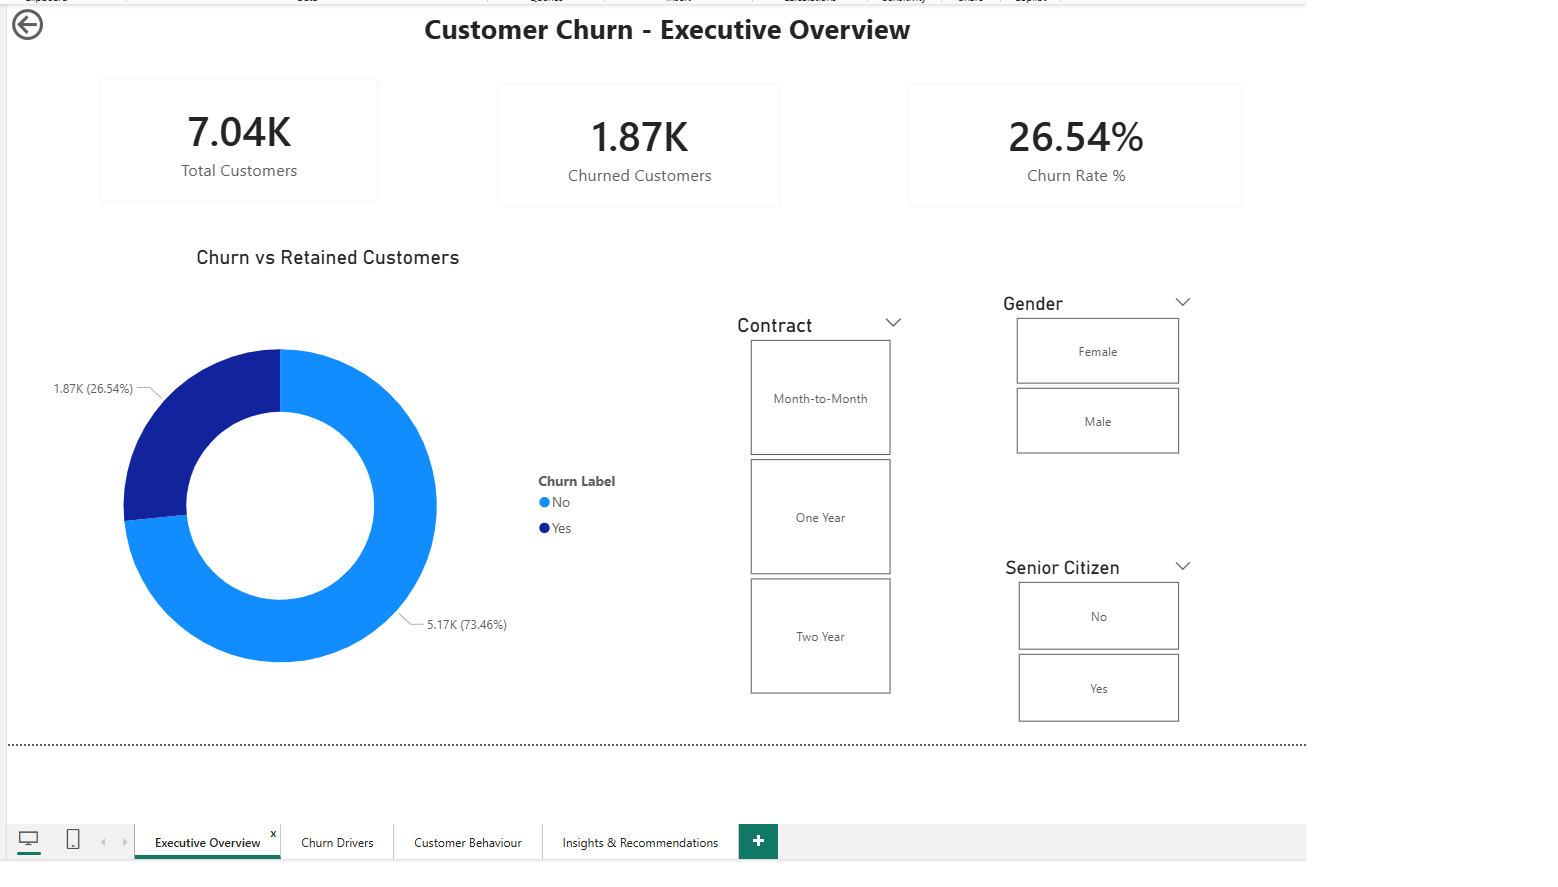

The dashboard page shown, as its layout file describes it:
{"tool":"powerbi","page":{"name":"Executive Overview","canvas":[1280,720],"ordinal":0},"visuals":[{"type":"cardVisual","fields":{"Data":["telco.Total Customers"]},"box":[72,55.4,306.4,154.7],"z":0},{"type":"cardVisual","fields":{"Data":["telco.Churned Customers"]},"box":[460.1,60.3,309.3,154.7],"z":1},{"type":"cardVisual","fields":{"Data":["telco.Churn Rate %"]},"box":[859.8,60.3,359.9,154.7],"z":2},{"type":"donutChart","title":"Churn vs Retained Customers","fields":{"Category":["telco.Churn Label"],"Y":["CountNonNull(telco.Customer ID)"]},"box":[9.7,234.4,605,485.3],"z":3},{"type":"slicer","fields":{"Values":["telco.Contract"]},"box":[697.4,295.7,185.8,382.2],"z":4},{"type":"slicer","fields":{"Values":["telco.Gender"]},"box":[956.1,275.3,208.1,169.2],"z":5},{"type":"actionButton","box":[0,0,100,40],"z":6},{"type":"slicer","fields":{"Values":["telco.Senior Citizen"]},"box":[958.1,532,206.2,173.1],"z":7},{"type":"textbox","box":[100.2,0,1084.5,55.4],"z":8}]}

Visuals, with their boxes on the page's 1280x720 design canvas (x1, y1, x2, y2). These are canvas units, not pixel positions in the 1558x887 screenshot, which may show the page scaled, cropped or inside an application window:
cardVisual - telco.Total Customers: (left=72, top=55, right=378, bottom=210)
cardVisual - telco.Churned Customers: (left=460, top=60, right=769, bottom=215)
cardVisual - telco.Churn Rate %: (left=860, top=60, right=1220, bottom=215)
"Churn vs Retained Customers" donutChart: (left=10, top=234, right=615, bottom=720)
slicer - telco.Contract: (left=697, top=296, right=883, bottom=678)
slicer - telco.Gender: (left=956, top=275, right=1164, bottom=444)
actionButton: (left=0, top=0, right=100, bottom=40)
slicer - telco.Senior Citizen: (left=958, top=532, right=1164, bottom=705)
textbox: (left=100, top=0, right=1185, bottom=55)
